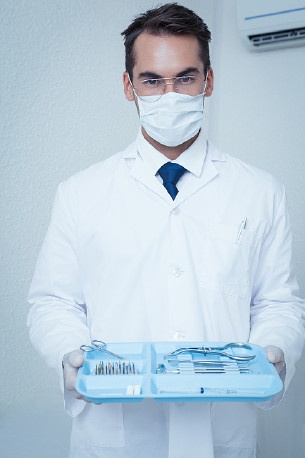Mask: (129, 61, 211, 144)
